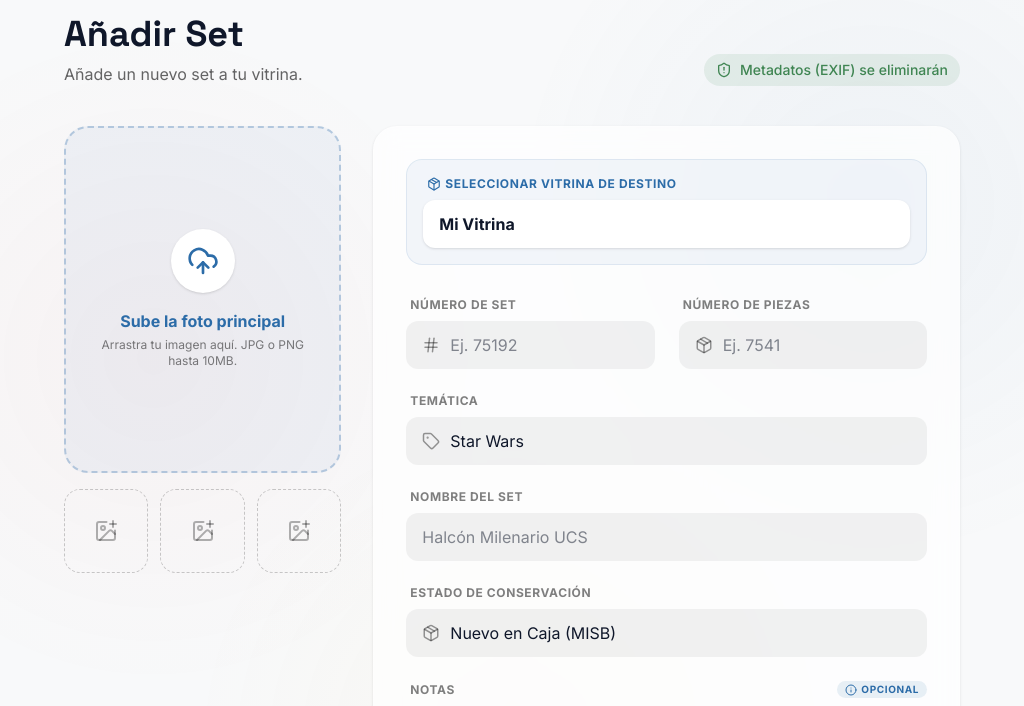
Scenario: MesaTrabajoClient › debe atrapar error inesperado durante el guardado
In the field with placeholder "Halcón Milenario UCS": (667, 537) [406,513,927,561], type "AT-AT"
(page scrolled)
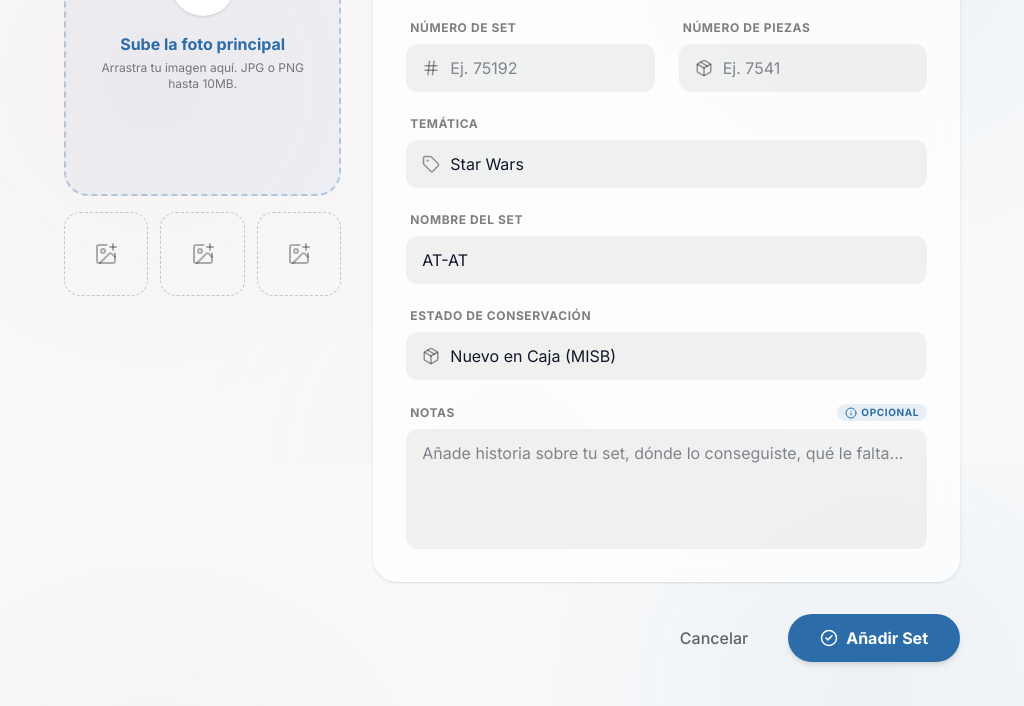
Click the button "Añadir Set": (874, 638) [788,614,960,662]
(page scrolled)
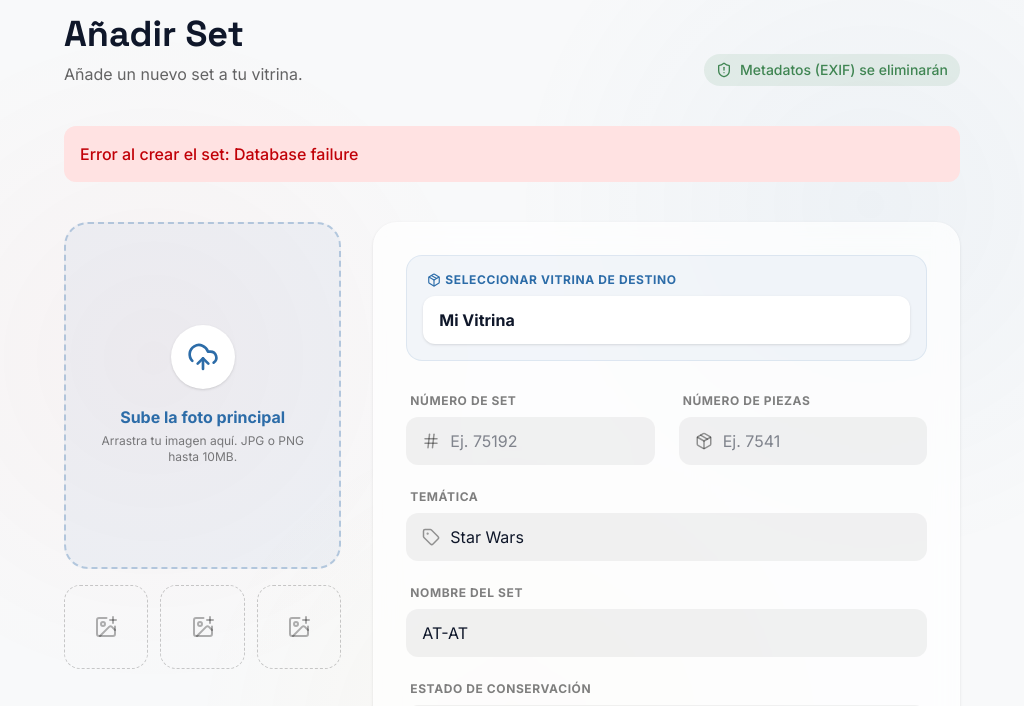
Expected: the text "Error al crear el set: Database failure" is shown, [64,126,960,182]
